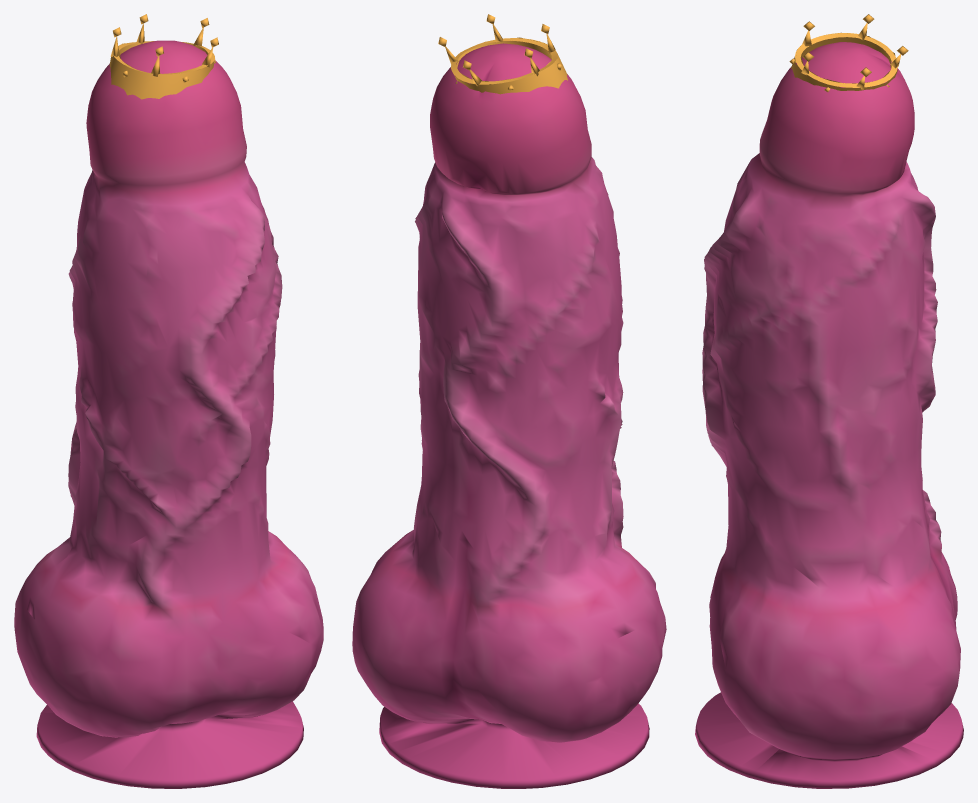
File: chess-king-lod0.glb
3 renders of one model, left to right at view 1: azimuth 30°, elevation 25°; view 2: azimuth 150°, elevation 25°; view 3: azimuth 270°, elevation 25°, orthographic.
Parts seen in each view (by area): view 1: king, crown; view 2: king, crown; view 3: king, crown.
Boxes of the visible parts, left/top/right/bottom form: king: left=14, top=40, right=323, bottom=788; crown: left=109, top=14, right=218, bottom=99; king: left=352, top=43, right=666, bottom=788; crown: left=438, top=14, right=567, bottom=94; king: left=695, top=42, right=963, bottom=788; crown: left=789, top=14, right=908, bottom=91.
Bounding box in the file's own units: 0.5158 × 1.28 × 0.4461.
